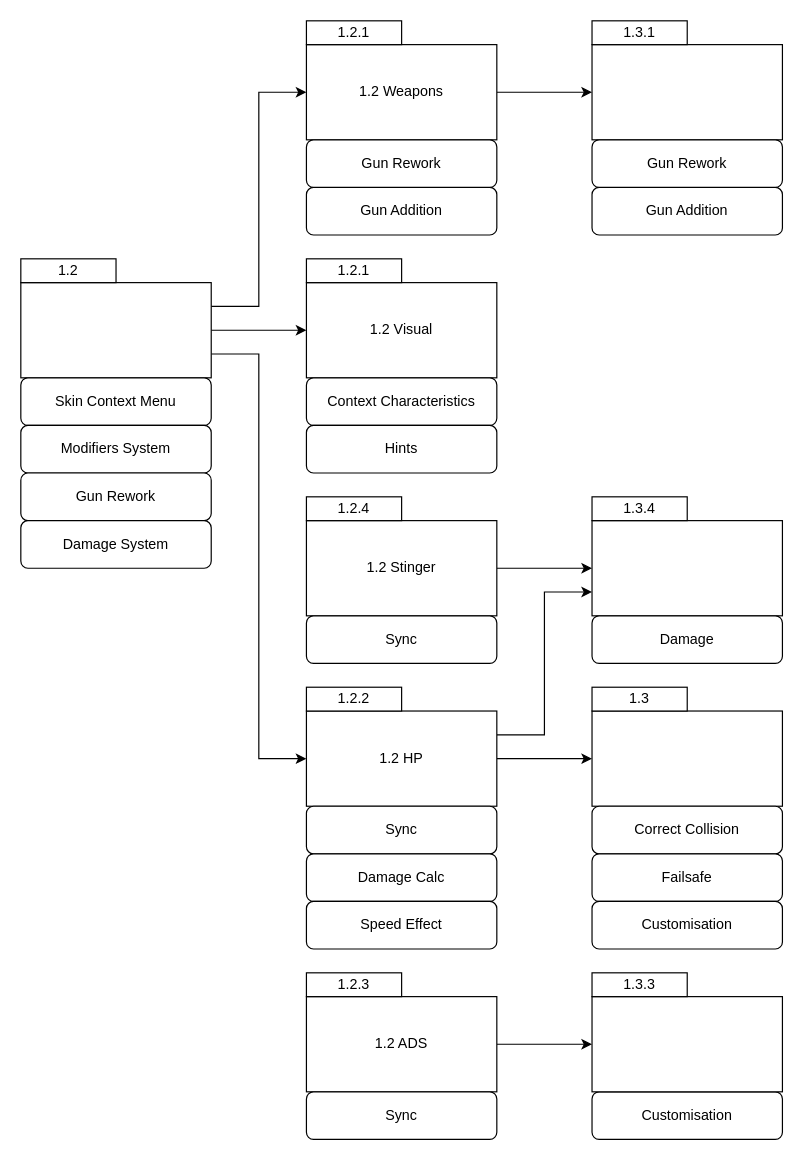
The diagram is 803 pixels wide and 1160 high, and some of its shapes have lost their labels. Here are the shapes that lost their labels. From the top down, the box of each, then its label:
(591, 43, 782, 140): 1.3 Weapons
(20, 281, 211, 378): 1.2 Core
(591, 519, 782, 616): 1.3 Stinger
(591, 710, 782, 806): 1.3 HP
(591, 995, 782, 1092): 1.3 ADS
